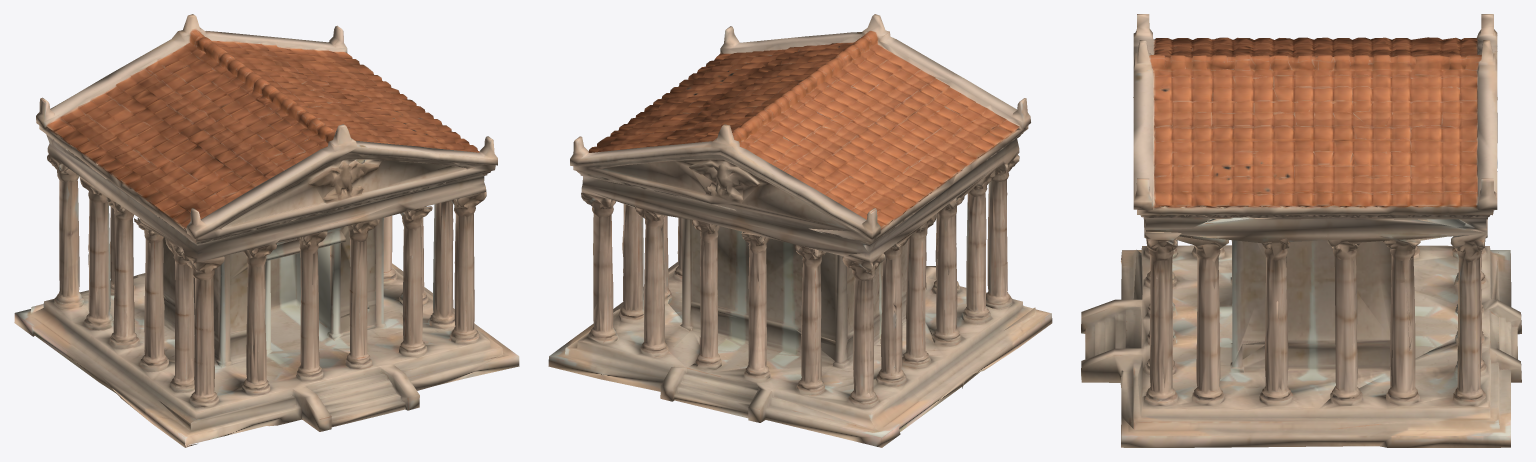
The model's file is temple.glb.
The picture shows the model from 3 angles, left to right: view 1: azimuth 30°, elevation 25°; view 2: azimuth 150°, elevation 25°; view 3: azimuth 270°, elevation 25°; orthographic projection. The views are drawn at different scales.
Parts seen in each view (by area): view 1: temple; view 2: temple; view 3: temple.
Part boxes in pixels (bbox=[...]): temple: bbox=[14, 14, 519, 447]; temple: bbox=[548, 14, 1052, 447]; temple: bbox=[1081, 14, 1521, 447].
Size of the model in its own units: 191 by 150 by 191.
1 material, 1 textured.
